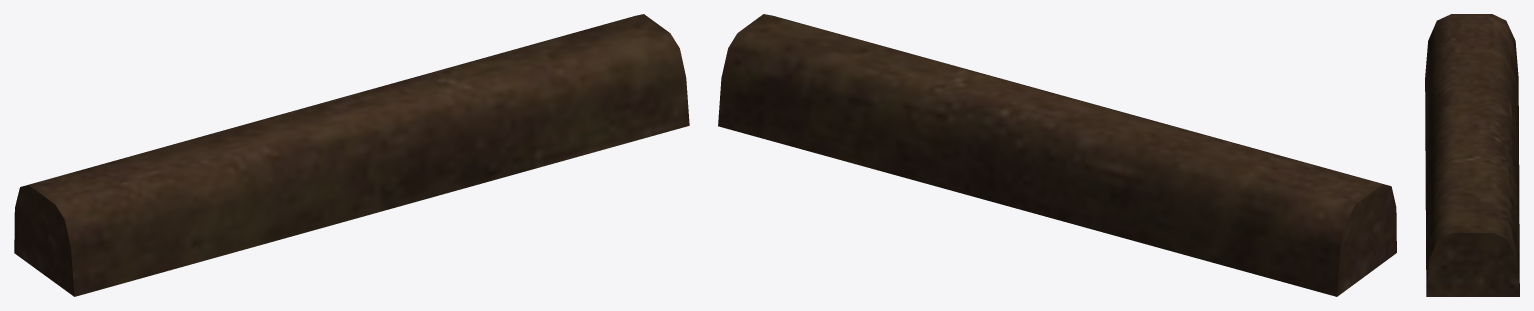
The model's file is Woodlog_S_02.FBX.
The picture shows the model from 3 angles, left to right: view 1: azimuth 30°, elevation 25°; view 2: azimuth 150°, elevation 25°; view 3: azimuth 270°, elevation 25°; orthographic projection. The views are drawn at different scales.
Visible parts, largest first — view 1: Woodlog_S_02; view 2: Woodlog_S_02; view 3: Woodlog_S_02.
Part boxes in pixels (<box>): Woodlog_S_02: <box>14,14,689,296</box>; Woodlog_S_02: <box>718,14,1396,296</box>; Woodlog_S_02: <box>1425,14,1519,296</box>.
Bounding box in the file's own units: 69.14 × 10.81 × 11.75.
